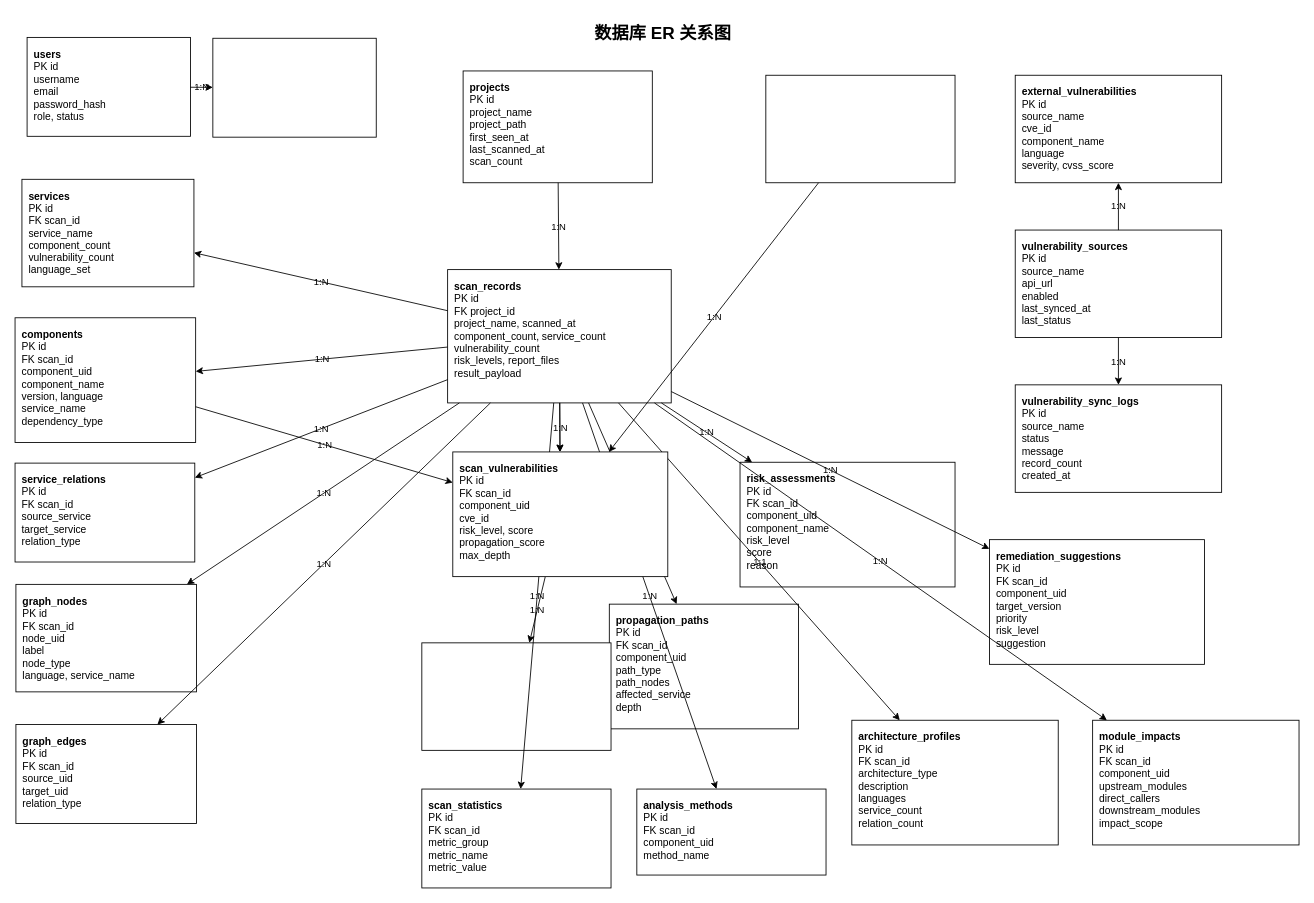
The diagram is 1314 pixels wide and 903 high, and some of its shapes have lost their labels. Here are the shapes that lost their labels. From the top down, the box of each, then its label:
(212, 37, 376, 137): user_login_events PK id FK user_id event_type event_status created_at
(765, 74, 955, 183): vulnerabilities PK id cve_id component_name language severity affected_versions
(421, 642, 611, 750): reports PK id FK scan_id report_type filename file_path created_at
